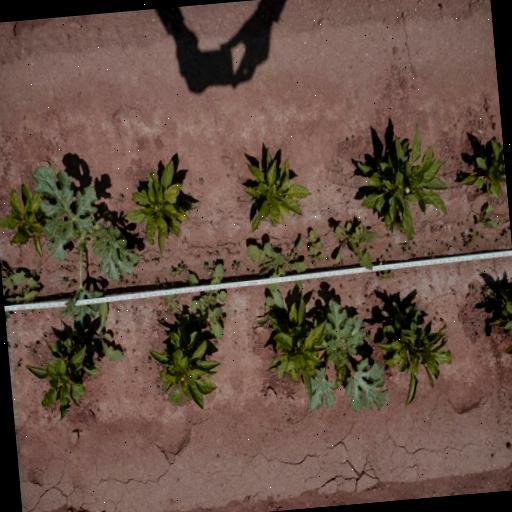plant: (355, 120, 450, 241), (378, 299, 453, 409), (123, 154, 198, 256), (238, 141, 312, 235), (22, 338, 100, 422), (266, 297, 326, 402), (149, 327, 219, 410), (453, 134, 508, 206), (0, 180, 43, 259), (491, 284, 512, 358)
weed: (30, 164, 142, 331), (308, 296, 389, 416), (244, 232, 307, 293), (185, 261, 229, 338), (70, 301, 124, 361), (332, 218, 380, 270), (162, 292, 224, 330), (0, 267, 41, 306), (473, 200, 499, 231), (254, 296, 274, 326), (306, 228, 325, 251), (305, 245, 323, 267), (374, 269, 394, 282), (175, 260, 189, 276), (95, 349, 104, 366), (482, 284, 492, 298), (402, 242, 412, 256), (470, 228, 478, 245), (230, 261, 240, 273), (501, 228, 511, 239), (414, 306, 422, 319), (168, 266, 176, 278), (12, 361, 21, 370), (460, 230, 468, 240), (200, 262, 208, 272), (30, 270, 40, 278), (428, 250, 436, 259), (152, 278, 160, 286), (366, 332, 372, 342), (152, 256, 158, 266), (130, 273, 138, 280), (68, 280, 76, 287), (235, 194, 241, 202), (197, 176, 203, 184), (33, 340, 39, 348), (30, 350, 36, 358), (60, 278, 66, 286), (386, 234, 392, 240), (146, 358, 151, 364), (388, 243, 392, 250), (454, 236, 458, 243), (326, 256, 330, 262), (214, 340, 218, 346)
